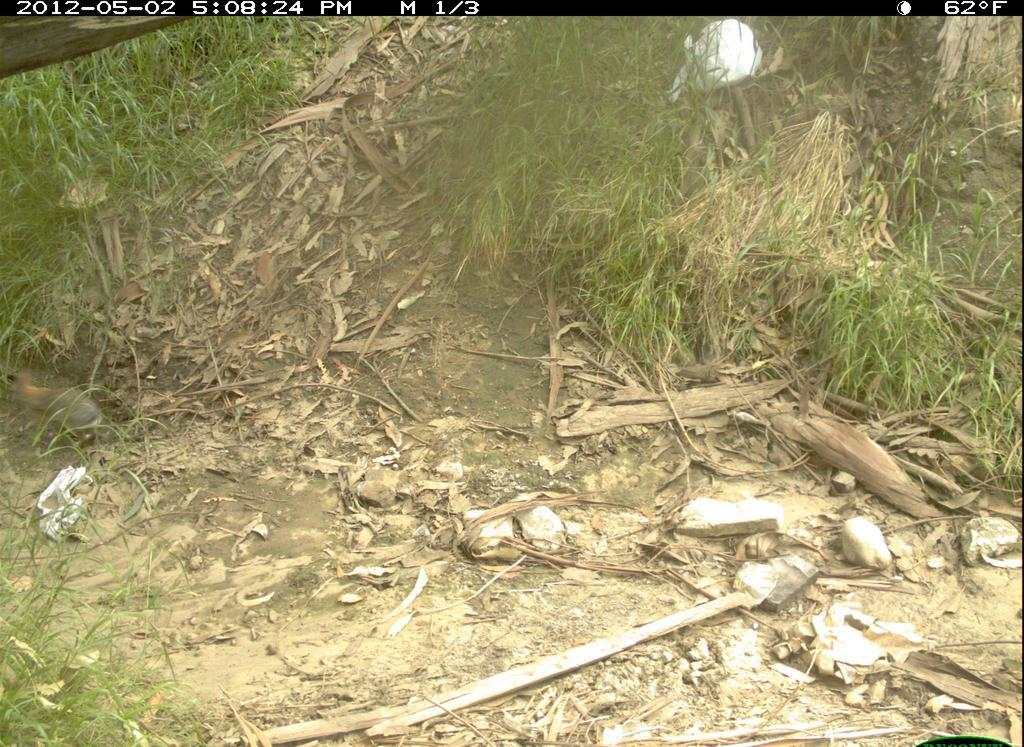rabbit: (4, 362, 117, 452)
